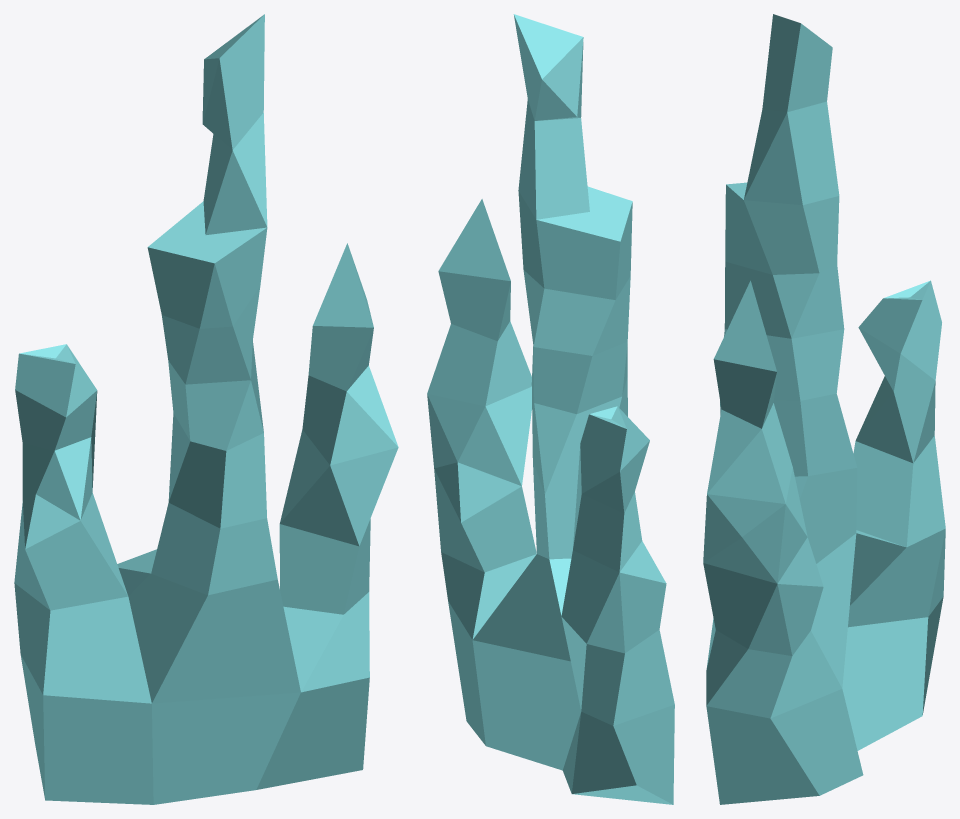
The model's file is icicle.glb.
The picture shows the model from 3 angles, left to right: view 1: azimuth 30°, elevation 25°; view 2: azimuth 150°, elevation 25°; view 3: azimuth 270°, elevation 25°; orthographic projection. The views are drawn at different scales.
Parts seen in each view (by area): view 1: icicle; view 2: icicle; view 3: icicle.
Boxes of the visible parts, bbox=[...] form: icicle: bbox=[14, 14, 398, 804]; icicle: bbox=[427, 14, 674, 804]; icicle: bbox=[703, 14, 945, 804].
Bounding box in the file's own units: 1.8 × 4.4 × 1.25.
Materials: 1 (1 with a texture image).
